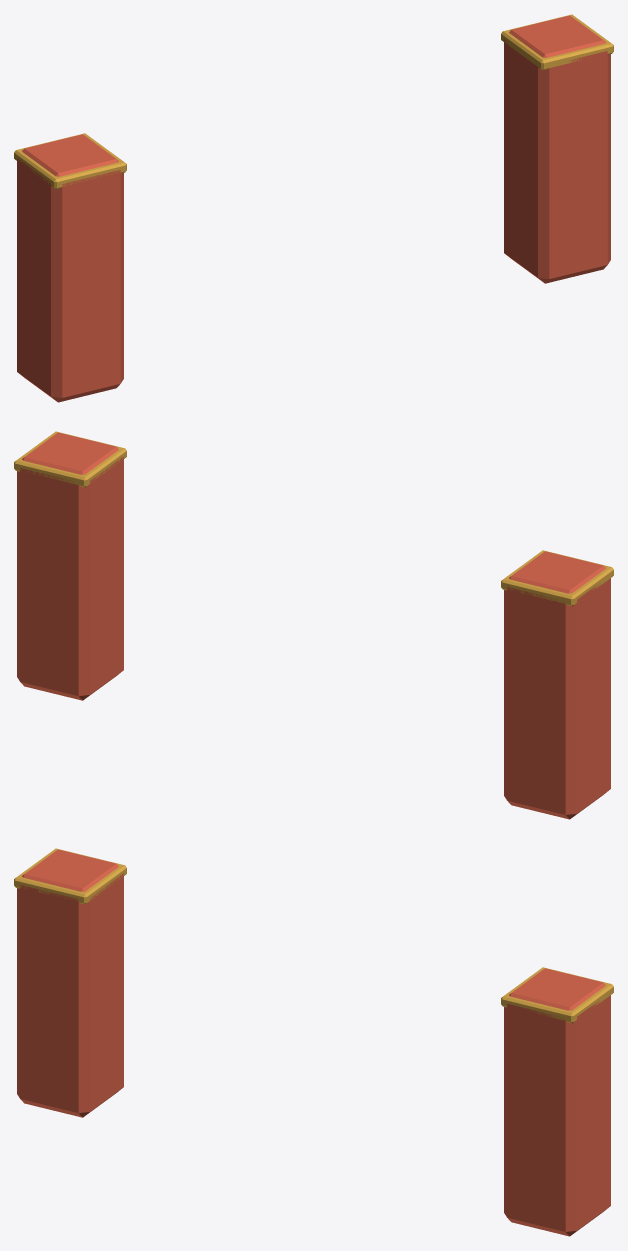
File: runway-jurere-provisional.glb
3 views of the same model, one above another, from view 1: azimuth 30°, elevation 25°; view 2: azimuth 150°, elevation 25°; view 3: azimuth 330°, elevation 25° (orthographic).
Parts seen in each view (by area): view 1: runway-jurere-provisional; view 2: runway-jurere-provisional; view 3: runway-jurere-provisional.
Part boxes in pixels (left/top/right/bottom): runway-jurere-provisional: left=14, top=14, right=613, bottom=402; runway-jurere-provisional: left=14, top=431, right=613, bottom=819; runway-jurere-provisional: left=14, top=848, right=613, bottom=1236.
Size of the model in its own units: 23 by 9 by 3.
